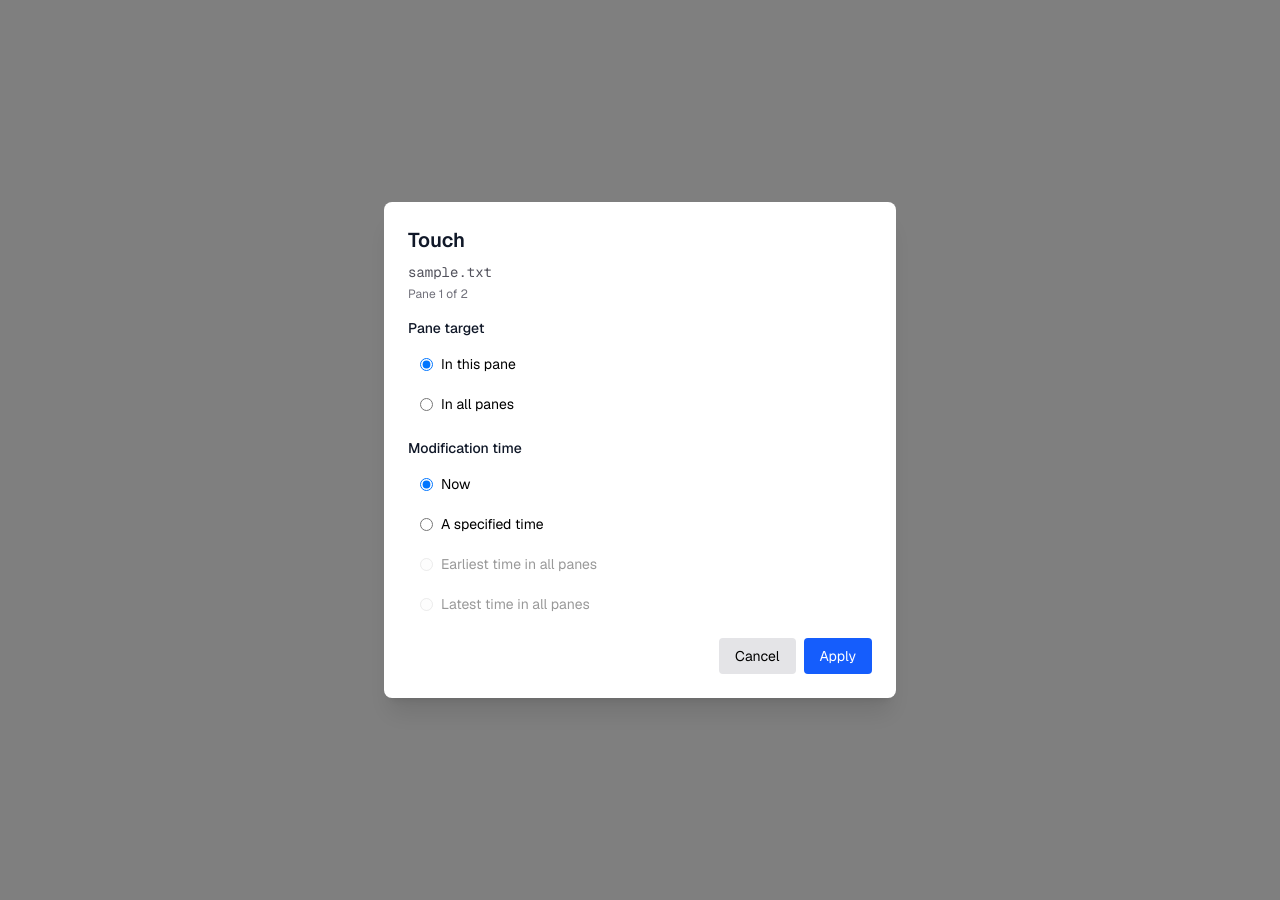
it: TouchFileDialog [IMPL-TOUCH_DIALOG] › disables Apply until specified datetime is valid
The image size is (1280, 900).
Click the radio button labelled "A specified time": (426, 524) [420, 518, 433, 530]
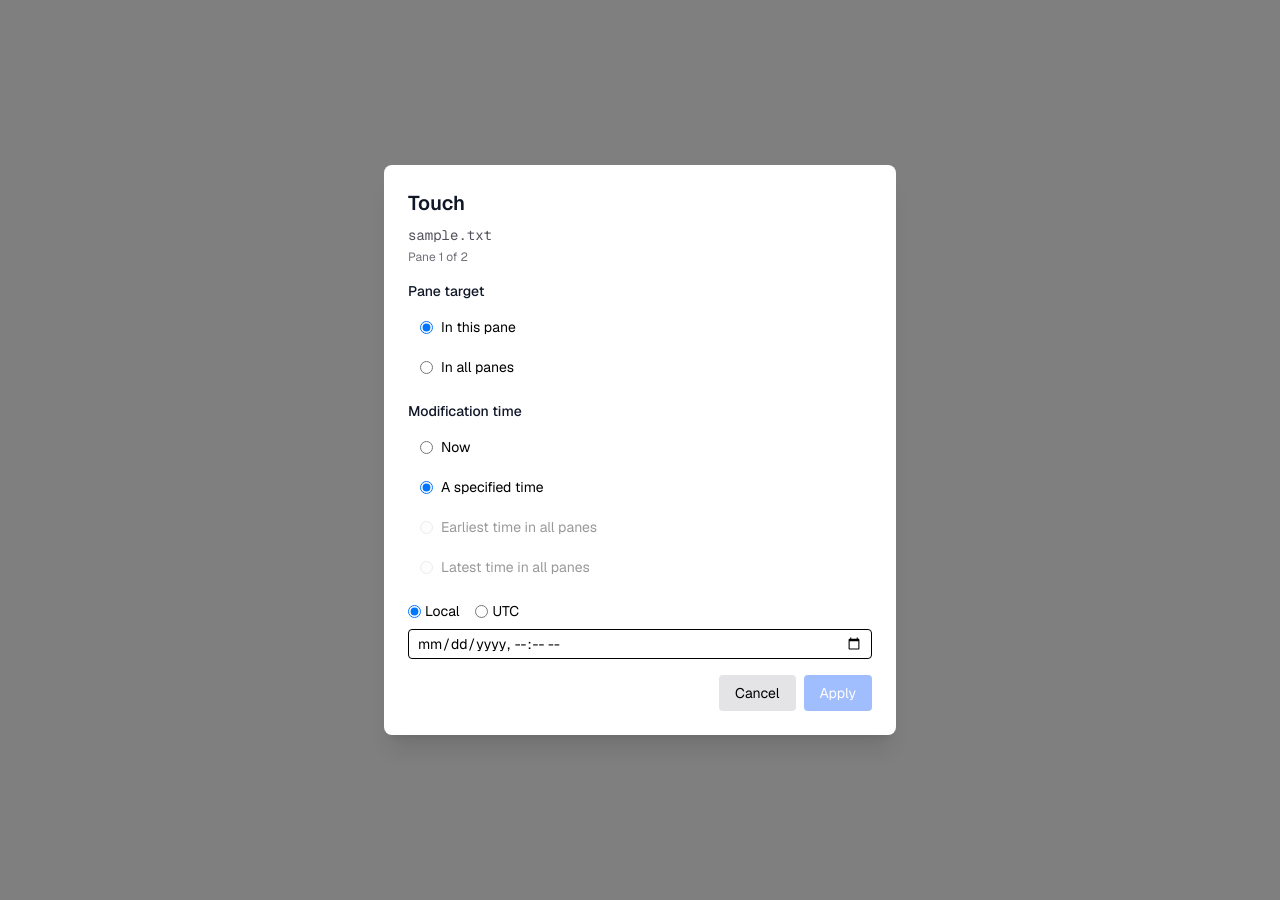
Expected: the button with test id "touch-file-apply" is disabled, [804, 675, 872, 711]
In the field with test id "touch-specified-datetime": (640, 644) [408, 629, 872, 659], type "2026-01-02T10:00"
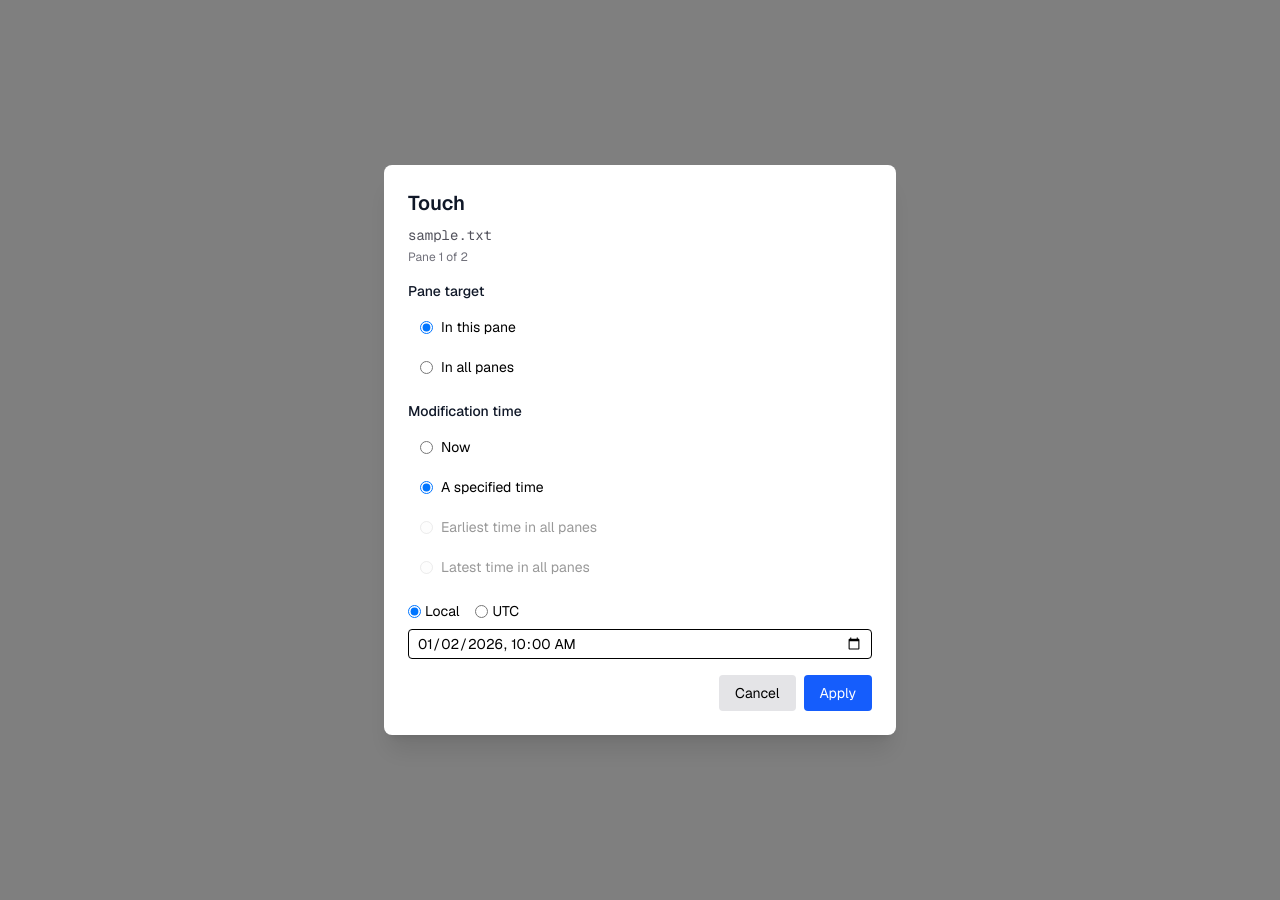
Expected: the button with test id "touch-file-apply" is enabled, [804, 675, 872, 711]
